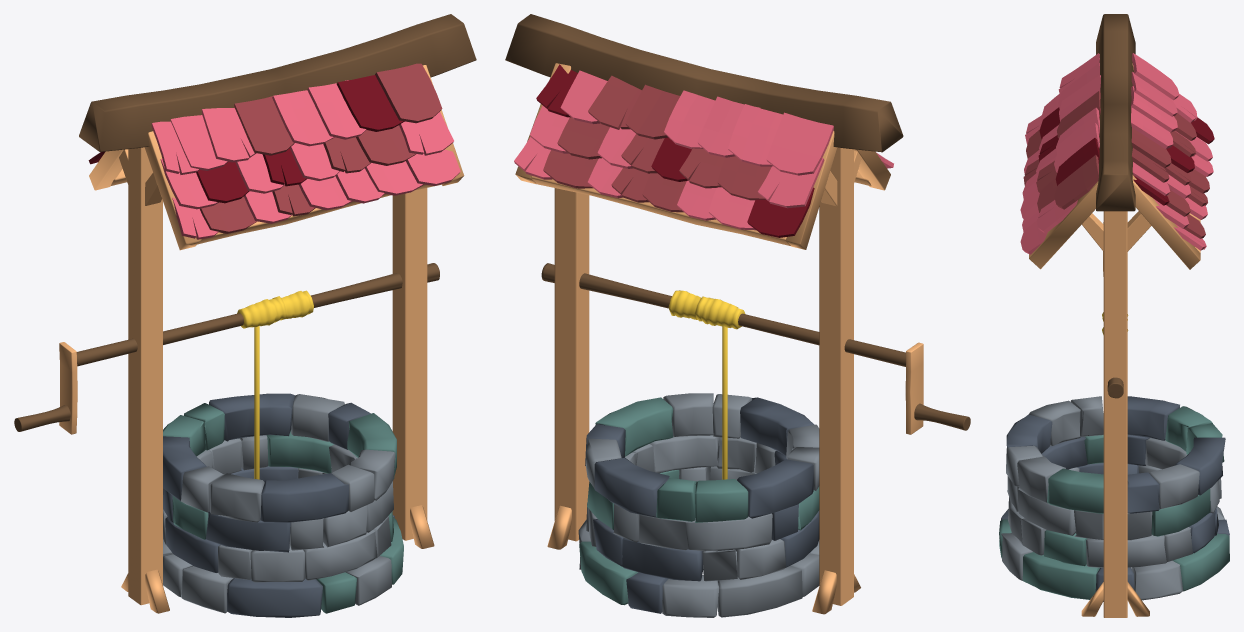
Rendered from well.fbx.
3 renders of one model, left to right at view 1: azimuth 30°, elevation 25°; view 2: azimuth 150°, elevation 25°; view 3: azimuth 270°, elevation 25°, orthographic. The views are drawn at different scales.
Parts seen in each view (by area): view 1: Plane.001, zijkanten, boven.001, boven, tussen hoog, onder, tussen laag, midden, Cube, Cylinder, zijkanten.001, handel (+4 smaller); view 2: Plane.011, zijkanten, boven.001, boven, tussen hoog, onder, tussen laag, midden, Cube, Cube.001, Cylinder, zijkanten.001 (+3 smaller); view 3: boven.001, Plane.011, Plane.001, zijkanten, tussen hoog, onder, boven, tussen laag, Cube, Cube.002, zijkanten.001.
Boxes of the visible parts, x1,y1,x2,y2 form: Plane.001: [151, 63, 460, 239]; zijkanten: [128, 147, 427, 605]; boven.001: [163, 393, 396, 522]; boven: [79, 14, 476, 151]; tussen hoog: [163, 430, 393, 552]; onder: [163, 515, 403, 617]; tussen laag: [163, 466, 393, 582]; midden: [76, 263, 439, 366]; Cube: [89, 65, 464, 250]; Cylinder: [237, 290, 313, 328]; zijkanten.001: [121, 505, 434, 613]; handel: [59, 342, 77, 434]; Plane.011: [514, 64, 833, 237]; zijkanten: [554, 147, 853, 605]; boven.001: [585, 393, 819, 522]; boven: [505, 14, 903, 152]; tussen hoog: [587, 435, 819, 551]; onder: [578, 519, 819, 617]; tussen laag: [586, 466, 819, 581]; midden: [541, 263, 905, 366]; Cube: [515, 63, 890, 249]; Cube.001: [531, 170, 871, 245]; Cylinder: [668, 290, 745, 329]; zijkanten.001: [547, 505, 860, 614]; boven.001: [1006, 396, 1225, 513]; Plane.011: [1131, 53, 1214, 250]; Plane.001: [1020, 53, 1100, 254]; zijkanten: [1103, 211, 1127, 617]; tussen hoog: [1007, 435, 1221, 540]; onder: [999, 506, 1229, 601]; boven: [1096, 14, 1135, 211]; tussen laag: [1008, 463, 1218, 567]; Cube: [1029, 63, 1200, 269]; Cube.002: [1082, 211, 1151, 251]; zijkanten.001: [1081, 582, 1149, 616].
Size of what is drawn, in the model's own units: 221 by 237 by 108.
